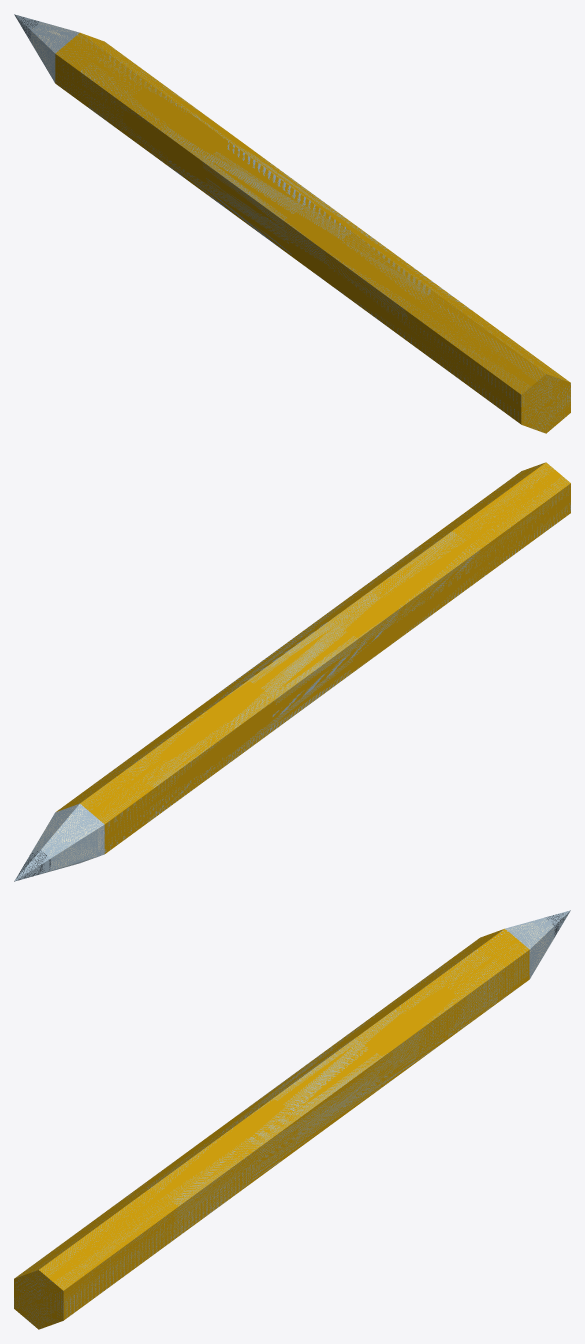
Rendered from pencil.fbx.
The picture shows the model from 3 angles, top to bottom: view 1: azimuth 30°, elevation 25°; view 2: azimuth 150°, elevation 25°; view 3: azimuth 330°, elevation 25°; orthographic projection.
Visible parts, largest first — view 1: Model; view 2: Model; view 3: Model.
Boxes of the visible parts, <box> form: Model: <box>14,14,570,433</box>; Model: <box>14,462,570,881</box>; Model: <box>14,910,570,1329</box>.
Size of the model in its own units: 0.0693 by 0.08 by 1.29.
